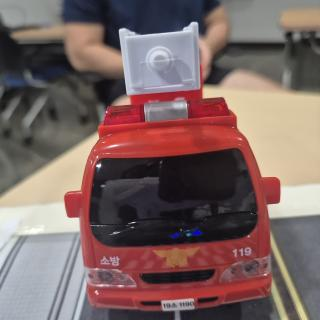Fire_truck: (64, 22, 280, 311)
